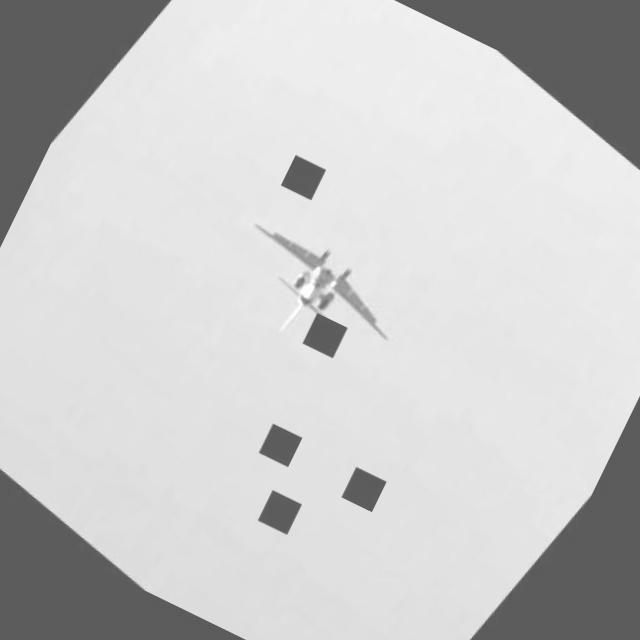aeroplane: (217, 210, 416, 373)
